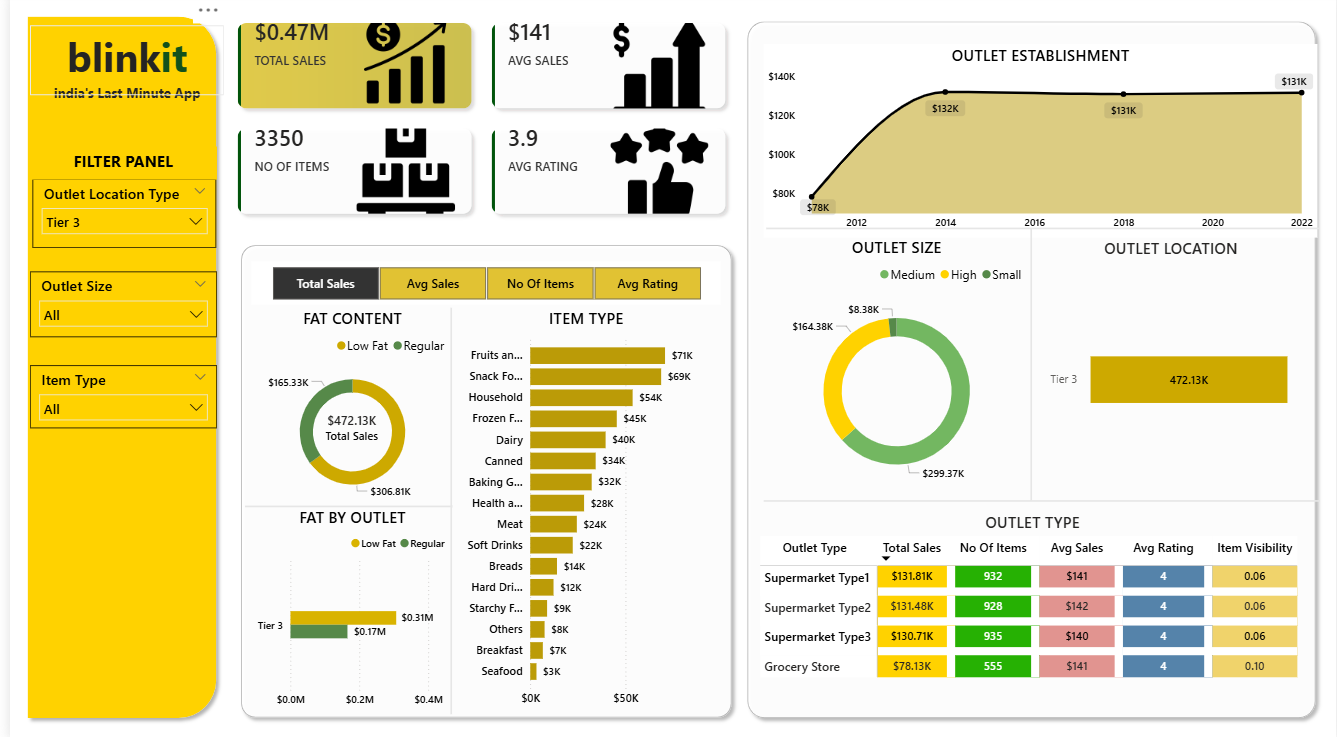

The page's visual inventory and layout, read from the dashboard file:
{"tool":"powerbi","page":{"name":"Page 1","canvas":[1600,900],"ordinal":0},"visuals":[{"type":"shape","box":[12,18,245.7,864.4],"z":0},{"type":"textbox","box":[23.4,102.8,234.4,50.5],"z":1000},{"type":"textbox","box":[23.4,37.9,234.4,84.8],"z":2000},{"type":"cardVisual","fields":{"Data":["BlinkIT Grocery Data.Total_Sales","BlinkIT Grocery Data.Avg_Sales","BlinkIT Grocery Data.No_Of_Items","BlinkIT Grocery Data.Avg_Rating"]},"box":[257.9,18,622.2,265.1],"z":3000},{"type":"shape","box":[270.5,294,609.6,587.9],"z":4000},{"type":"donutChart","title":"FAT CONTENT","fields":{"Y":["BlinkIT Grocery Data.Total Sales"],"Category":["BlinkIT Grocery Data.Item Fat Content"]},"box":[292.2,378.7,241.7,243.5],"z":5000},{"type":"slicer","fields":{"Values":["Metrics.Metrics"]},"box":[290.4,322.8,566.3,52.3],"z":6000},{"type":"cardVisual","fields":{"Data":["BlinkIT Grocery Data.Total Sales"]},"box":[348.1,483.3,128,79.4],"z":7000},{"type":"clusteredBarChart","title":"FAT BY OUTLET","fields":{"Y":["BlinkIT Grocery Data.Total Sales"],"Category":["BlinkIT Grocery Data.Outlet Location Type"],"Series":["BlinkIT Grocery Data.Item Fat Content"]},"box":[292.2,618.6,241.7,250.7],"z":8000},{"type":"shape","box":[283.1,595.1,250.7,45.1],"z":9000},{"type":"shape","box":[519.4,378.7,27.1,490.5],"z":10000},{"type":"barChart","title":"ITEM TYPE","fields":{"Y":["BlinkIT Grocery Data.Total Sales"],"Category":["BlinkIT Grocery Data.Item Type"]},"box":[533.8,378.7,322.8,490.5],"z":11000},{"type":"shape","box":[880.1,23.4,703.3,858.4],"z":12000},{"type":"lineChart","title":"OUTLET ESTABLISHMENT","fields":{"Y":["BlinkIT Grocery Data.Total Sales"],"Category":["BlinkIT Grocery Data.Outlet Establishment Year"]},"box":[909.4,59.9,668.2,233.7],"z":13000},{"type":"shape","box":[912.5,259.7,667.3,46.9],"z":14000},{"type":"donutChart","title":"OUTLET SIZE","fields":{"Y":["BlinkIT Grocery Data.Total Sales"],"Category":["BlinkIT Grocery Data.Outlet Size"]},"box":[908.9,292.2,321,317.4],"z":15000},{"type":"shape","box":[1219.1,283.1,27.1,328.2],"z":16000},{"type":"funnel","title":"OUTLET LOCATION","fields":{"Y":["Sum(BlinkIT Grocery Data.Sales)"],"Category":["BlinkIT Grocery Data.Outlet Location Type"]},"box":[1249.8,294,301.2,317.4],"z":17000},{"type":"shape","box":[908.9,587.9,670.9,46.9],"z":18000},{"type":"pivotTable","title":"OUTLET TYPE","fields":{"Rows":["BlinkIT Grocery Data.Outlet Type"],"Values":["BlinkIT Grocery Data.Total Sales","BlinkIT Grocery Data.No Of Items","BlinkIT Grocery Data.Avg Sales","BlinkIT Grocery Data.Avg Rating","Avg(BlinkIT Grocery Data.Item Visibility)"]},"box":[900.4,624.7,666.7,215.7],"z":19000},{"type":"slicer","fields":{"Values":["BlinkIT Grocery Data.Outlet Location Type"]},"box":[27.1,223.6,221.8,83],"z":20000},{"type":"slicer","fields":{"Values":["BlinkIT Grocery Data.Outlet Size"]},"box":[23.4,335.4,225.4,79.4],"z":21000},{"type":"slicer","fields":{"Values":["BlinkIT Grocery Data.Item Type"]},"box":[23.4,447.3,225.4,75.7],"z":22000},{"type":"textbox","box":[23.4,184,225.4,39.7],"z":23000}]}

Visuals, with their boxes in screenshot pixels (x1, y1, x2, y2), scaled from the page's 1600x900 canvas onto the 1337x737 screenshot:
shape: x1=10 y1=15 x2=215 y2=723
textbox: x1=20 y1=84 x2=215 y2=126
textbox: x1=20 y1=31 x2=215 y2=100
cardVisual - BlinkIT Grocery Data.Total_Sales x BlinkIT Grocery Data.Avg_Sales: x1=216 y1=15 x2=735 y2=232
shape: x1=226 y1=241 x2=735 y2=722
"FAT CONTENT" donutChart: x1=244 y1=310 x2=446 y2=510
slicer - Metrics.Metrics: x1=243 y1=264 x2=716 y2=307
cardVisual - BlinkIT Grocery Data.Total Sales: x1=291 y1=396 x2=398 y2=461
"FAT BY OUTLET" clusteredBarChart: x1=244 y1=507 x2=446 y2=712
shape: x1=237 y1=487 x2=446 y2=524
shape: x1=434 y1=310 x2=457 y2=712
"ITEM TYPE" barChart: x1=446 y1=310 x2=716 y2=712
shape: x1=735 y1=19 x2=1323 y2=722
"OUTLET ESTABLISHMENT" lineChart: x1=760 y1=49 x2=1318 y2=240
shape: x1=763 y1=213 x2=1320 y2=251
"OUTLET SIZE" donutChart: x1=759 y1=239 x2=1028 y2=499
shape: x1=1019 y1=232 x2=1041 y2=501
"OUTLET LOCATION" funnel: x1=1044 y1=241 x2=1296 y2=501
shape: x1=759 y1=481 x2=1320 y2=520
"OUTLET TYPE" pivotTable: x1=752 y1=512 x2=1310 y2=688
slicer - BlinkIT Grocery Data.Outlet Location Type: x1=23 y1=183 x2=208 y2=251
slicer - BlinkIT Grocery Data.Outlet Size: x1=20 y1=275 x2=208 y2=340
slicer - BlinkIT Grocery Data.Item Type: x1=20 y1=366 x2=208 y2=428
textbox: x1=20 y1=151 x2=208 y2=183
